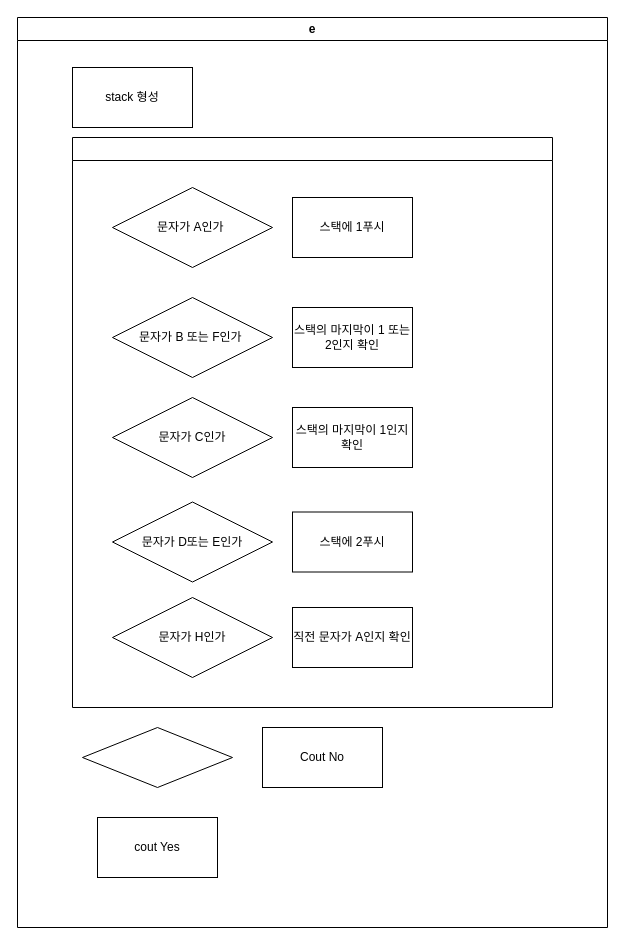
Some shapes in this 625 by 945 pixel diagram are drawn without their labels. The box of each missing label's shape, as (x1, y1, x2, y2) in pixels:
stack의 크기가 0인가?: (82, 726, 232, 788)
문자열의 처음부터 끝까지 반복: (72, 136, 552, 708)
